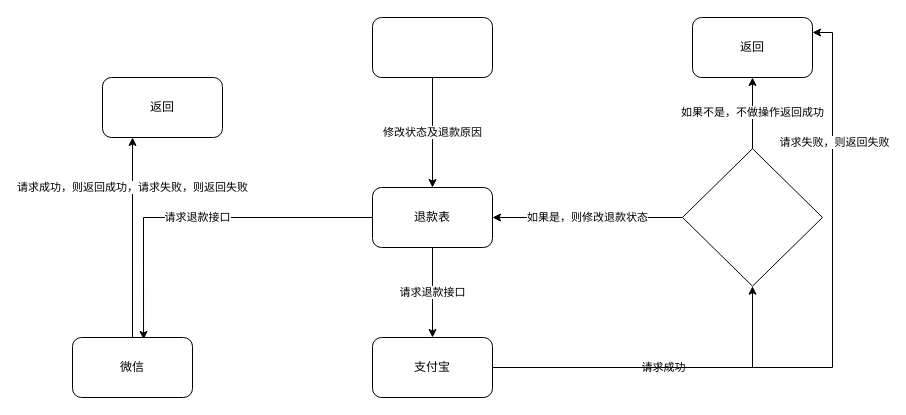
This 906x415 diagram has some shape labels left out. Each missing label, with the centre of its shape:
"同意退款" goes at point (432, 47).
"返回fund_change=Y" goes at point (752, 217).
